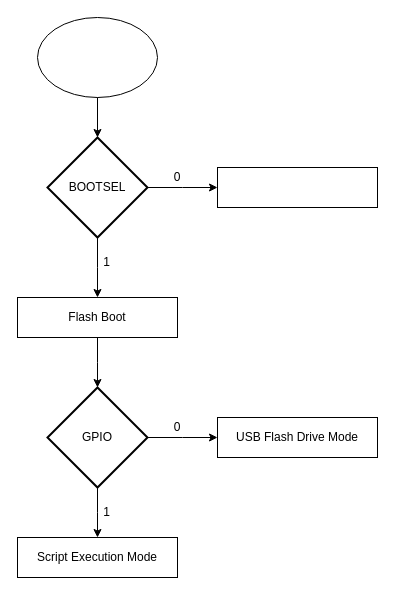
Some shapes in this 395 by 595 pixel diagram are drawn without their labels. The shapes that lost their labels are listed below. From the top down, each one's box as (x1, y1, x2, y2) in pixels, then its label:
(36, 16, 158, 98): Boot Entry
(216, 166, 378, 208): USB Boot (Programming Mode)
